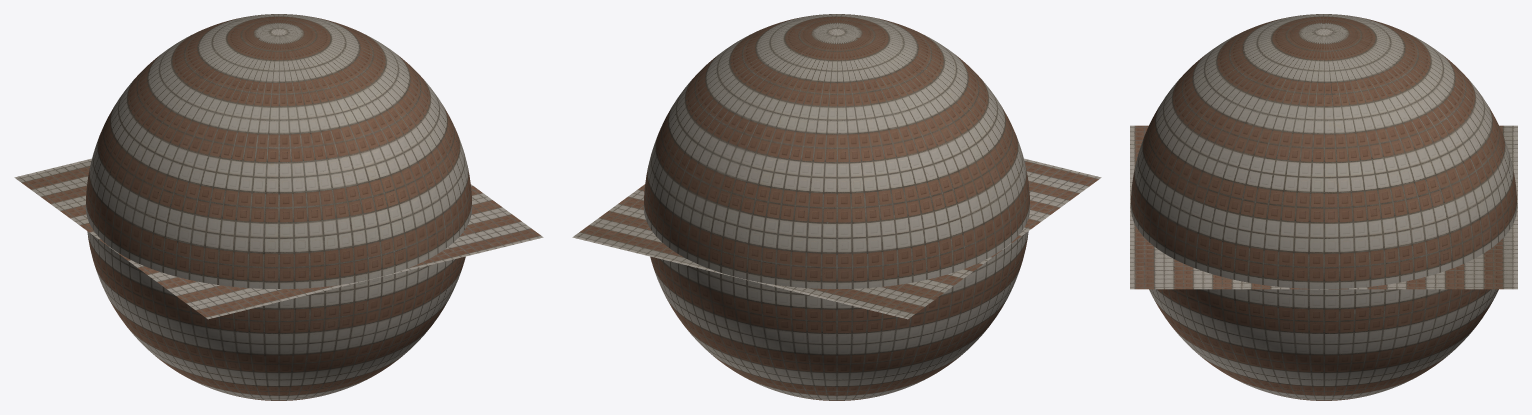
Rendered from square_tiled_wall_2k.fbx.
The picture shows the model from 3 angles, left to right: view 1: azimuth 30°, elevation 25°; view 2: azimuth 150°, elevation 25°; view 3: azimuth 270°, elevation 25°; orthographic projection.
Visible parts, largest first — view 1: Sphere, Plane; view 2: Sphere, Plane; view 3: Sphere, Plane.
Part boxes in pixels (x1=…): Sphere: x1=85, y1=14, x2=472, y2=400; Plane: x1=14, y1=158, x2=543, y2=319; Sphere: x1=643, y1=14, x2=1030, y2=400; Plane: x1=572, y1=158, x2=1101, y2=319; Sphere: x1=1130, y1=14, x2=1517, y2=400; Plane: x1=1130, y1=125, x2=1517, y2=289.
Bounding box in the file's own units: 200 × 200 × 200.
